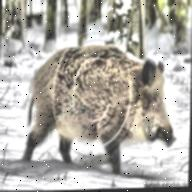boar: (21, 29, 191, 173)
